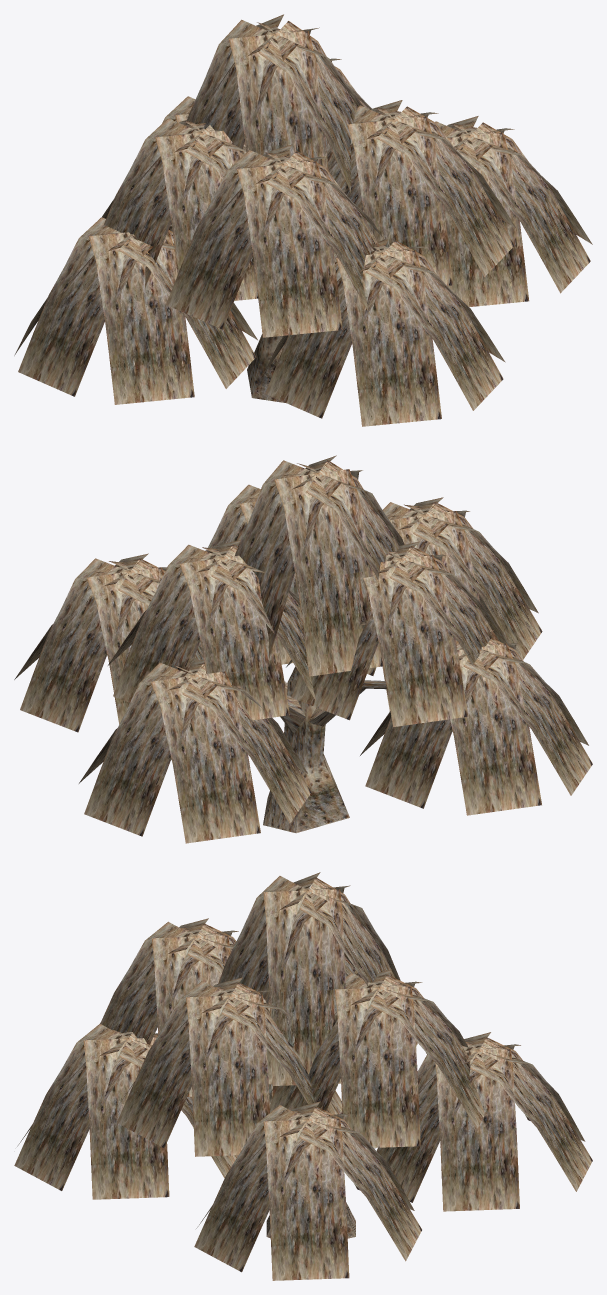
3 renders of one model, top to bottom at view 1: azimuth 30°, elevation 25°; view 2: azimuth 150°, elevation 25°; view 3: azimuth 270°, elevation 25°, orthographic. The views are drawn at different scales.
Visible parts, largest first — view 1: 2_Cluster9, 1_Trunk; view 2: 2_Cluster9, 1_Trunk; view 3: 2_Cluster9.
Part boxes in pixels (<box>): 2_Cluster9: <box>14,14,592,426</box>; 1_Trunk: <box>247,334,285,402</box>; 2_Cluster9: <box>14,455,592,843</box>; 1_Trunk: <box>263,622,386,833</box>; 2_Cluster9: <box>14,872,592,1280</box>.
Size of the model in its own units: 213 by 129 by 203.
1 material, 1 textured.
